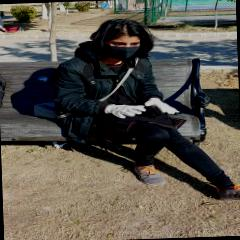gloved: (105, 103, 145, 119), (144, 98, 179, 115)
